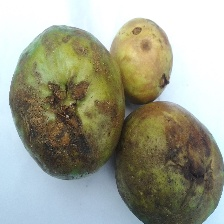guava: (28, 39, 215, 224)
